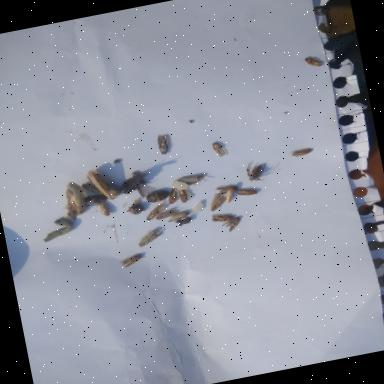abw: (87, 168, 124, 204), (60, 178, 90, 220)
pbw: (136, 230, 162, 249), (80, 182, 108, 199), (120, 252, 146, 269), (224, 216, 245, 236), (144, 203, 166, 222), (154, 134, 172, 156), (163, 186, 182, 206), (211, 212, 239, 225), (208, 194, 228, 212), (96, 197, 113, 218), (167, 209, 190, 223), (154, 206, 174, 222), (210, 142, 230, 158), (223, 186, 240, 204), (177, 186, 193, 204), (292, 146, 312, 160), (236, 186, 256, 200), (178, 174, 199, 186), (304, 54, 321, 68)
